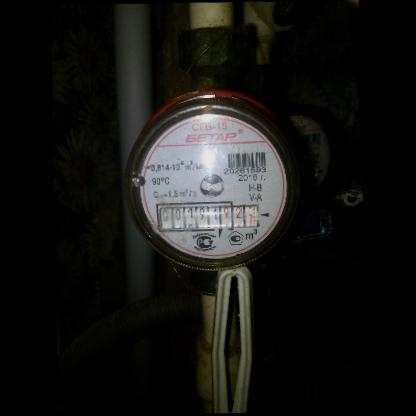digital_screen: (153, 199, 222, 234)
